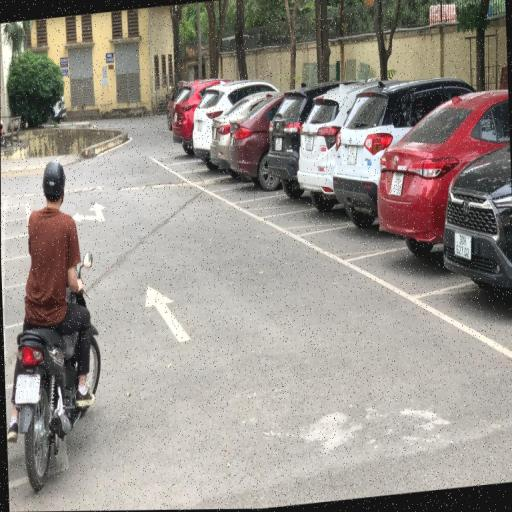bike: (0, 151, 104, 498)
numberplate: (13, 373, 41, 406)
with helmet: (41, 158, 67, 198)
